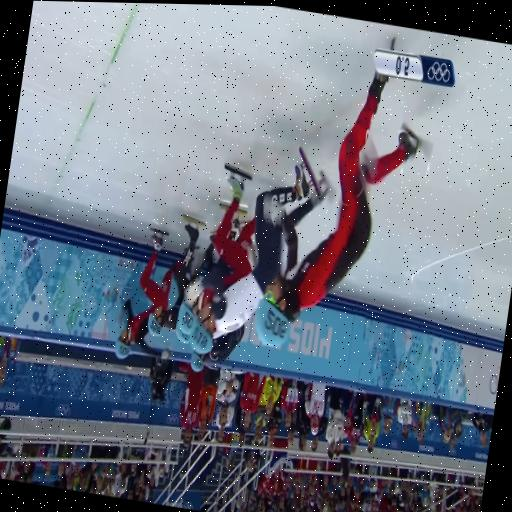Skater: (256, 73, 421, 345), (185, 165, 310, 353), (115, 216, 199, 358), (149, 214, 204, 335), (213, 164, 255, 286), (193, 200, 254, 283), (191, 324, 244, 370)
